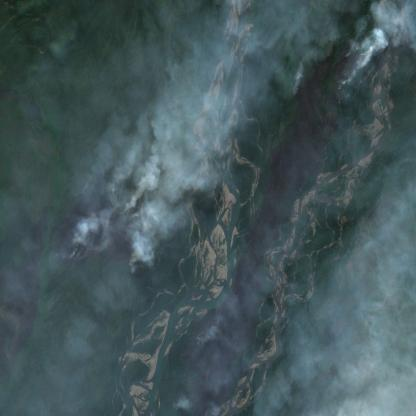fire: (69, 165, 160, 277), (327, 32, 377, 91)
